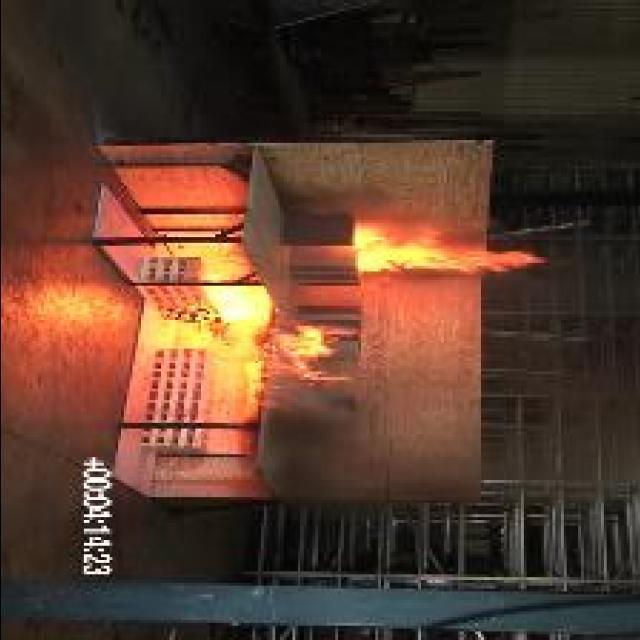Fire: (173, 288, 350, 412), (354, 225, 542, 272)
